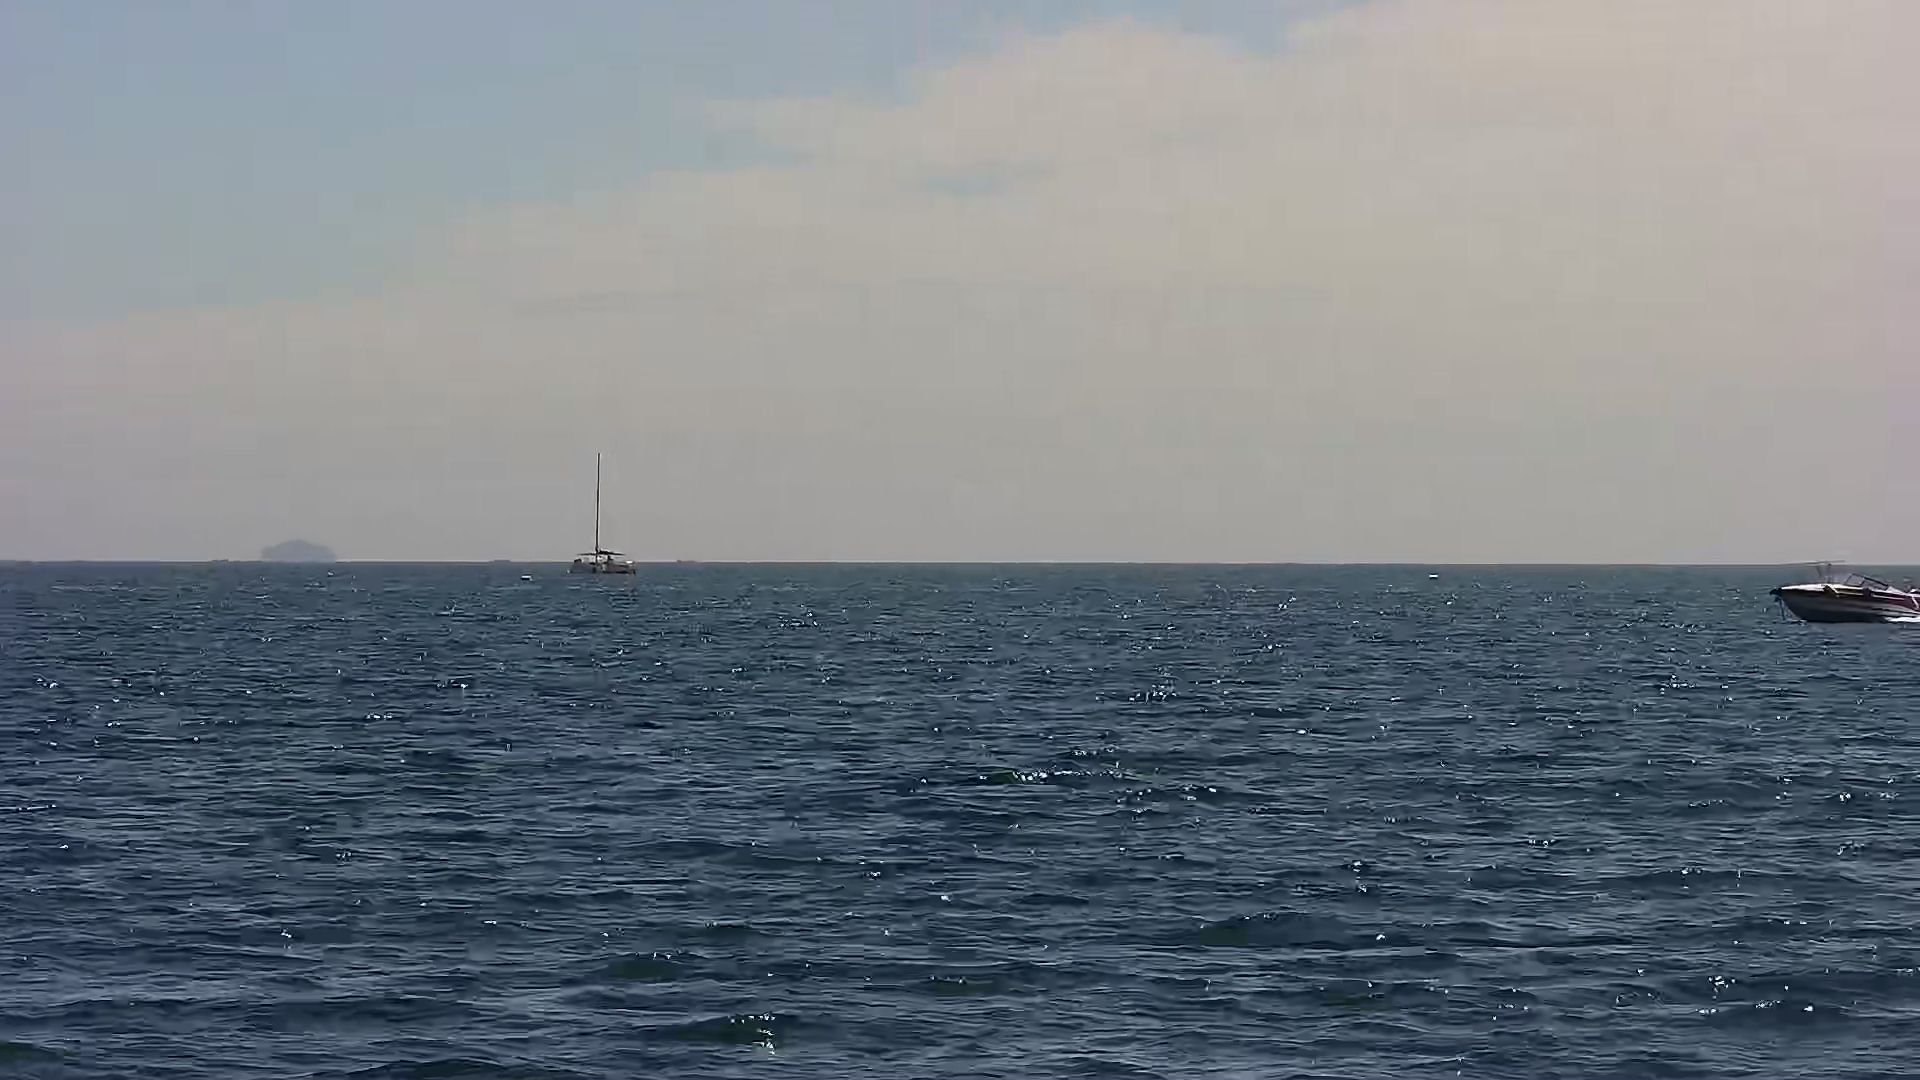boat: (1768, 560, 1920, 626), (572, 456, 644, 578)
